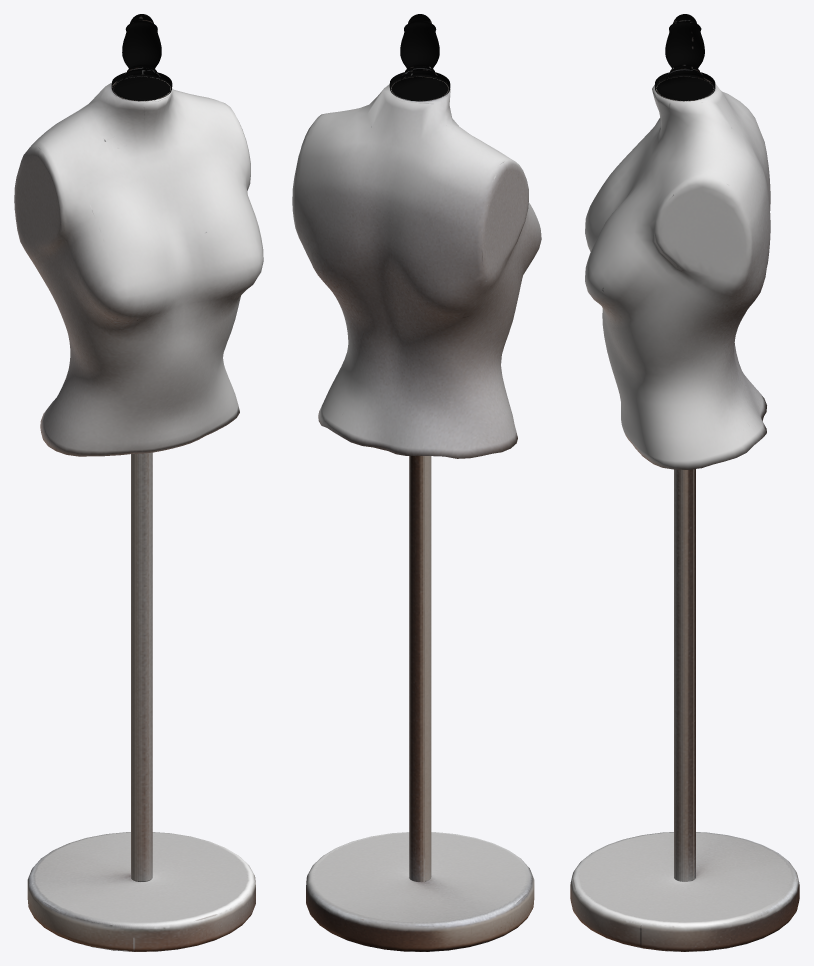
The model's file is Mannequin_HalfMannequin_0.4x1.6x0.4.glb.
3 views of the same model, side by side, from view 1: azimuth 30°, elevation 25°; view 2: azimuth 150°, elevation 25°; view 3: azimuth 270°, elevation 25° (orthographic).
Visible parts, largest first — view 1: Top_mannequin; view 2: Top_mannequin; view 3: Top_mannequin.
Part boxes in pixels (x1,y1,x2,y2): Top_mannequin: (14, 14, 263, 951); Top_mannequin: (292, 14, 541, 951); Top_mannequin: (570, 14, 799, 951).
Size of the model in its own units: 0.3691 by 1.58 by 0.3691.
Materials: 1 (1 with a texture image).
